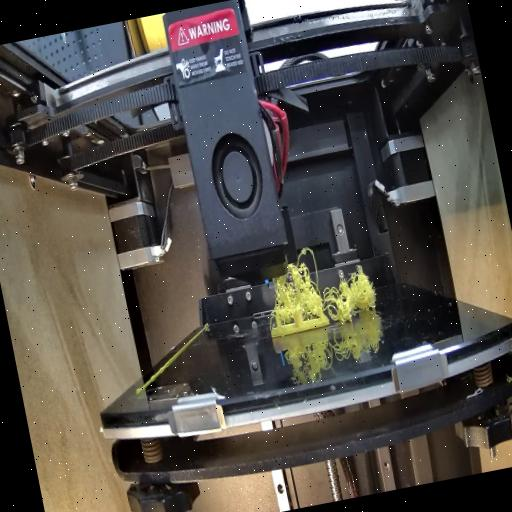spaghetti: (258, 234, 379, 330)
